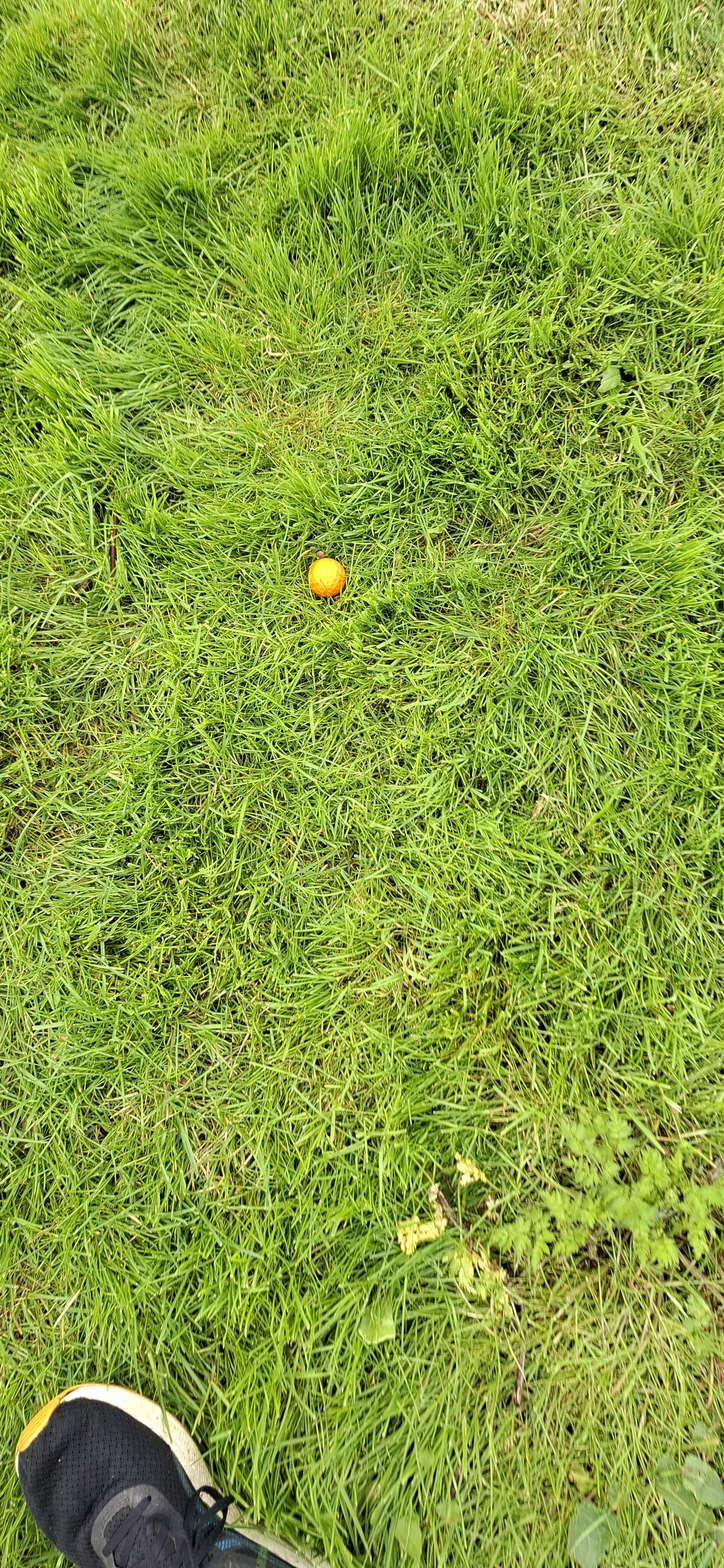ball: (258, 820, 276, 902)
